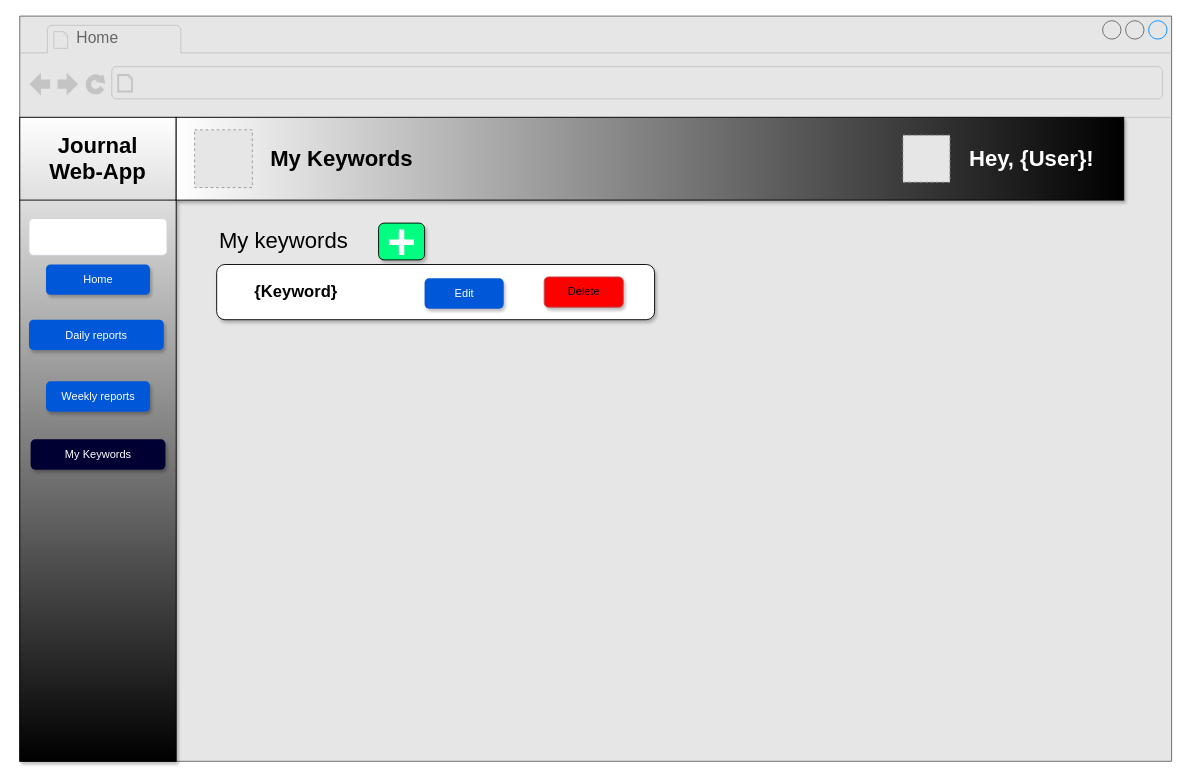
This 1188x784 diagram has some shape labels left out. Grey dashed boxes stand in for pictures. Here are the shapes that lost their labels. From the top down, the centre of each, then its label:
the point at 253,82: https://journal.com
the point at 97,236: Search
